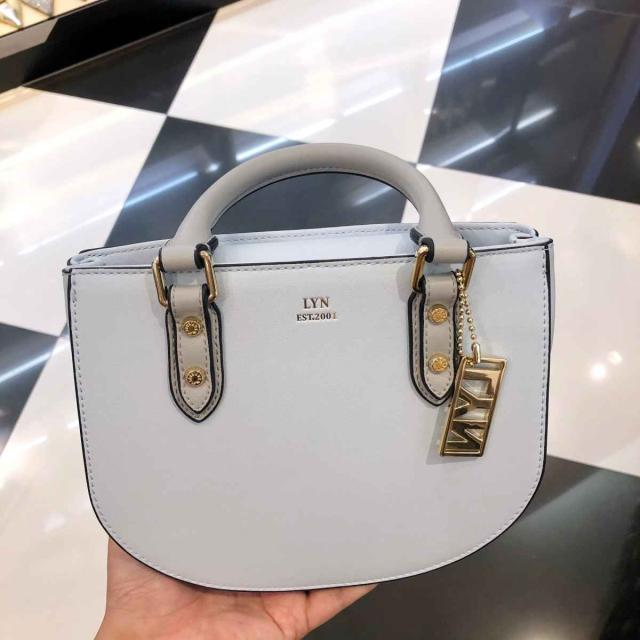handbag: (48, 142, 566, 594)
